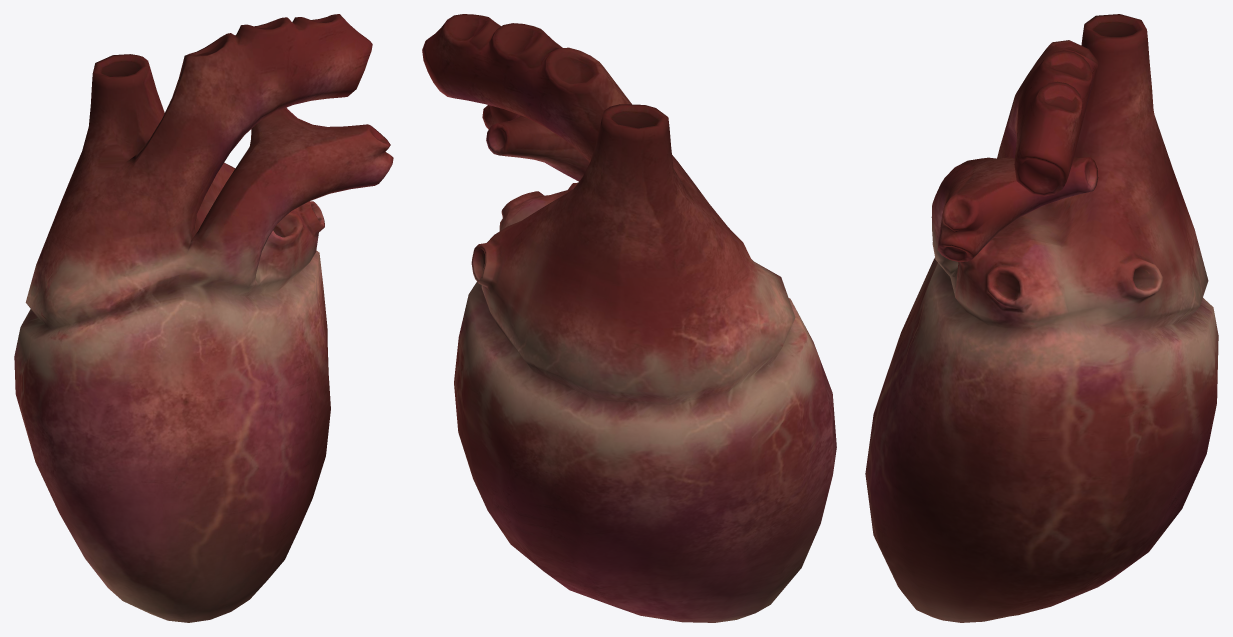
The model's file is heart3.glb.
3 views of the same model, side by side, from view 1: azimuth 30°, elevation 25°; view 2: azimuth 150°, elevation 25°; view 3: azimuth 270°, elevation 25° (orthographic). The views are drawn at different scales.
Parts seen in each view (by area): view 1: heart; view 2: heart; view 3: heart.
Part boxes in pixels (<box>): heart: <box>14,14,393,622</box>; heart: <box>422,14,836,622</box>; heart: <box>865,14,1218,622</box>.
Bounding box in the file's own units: 2.49 × 3.66 × 1.9.
1 material, 1 textured.
